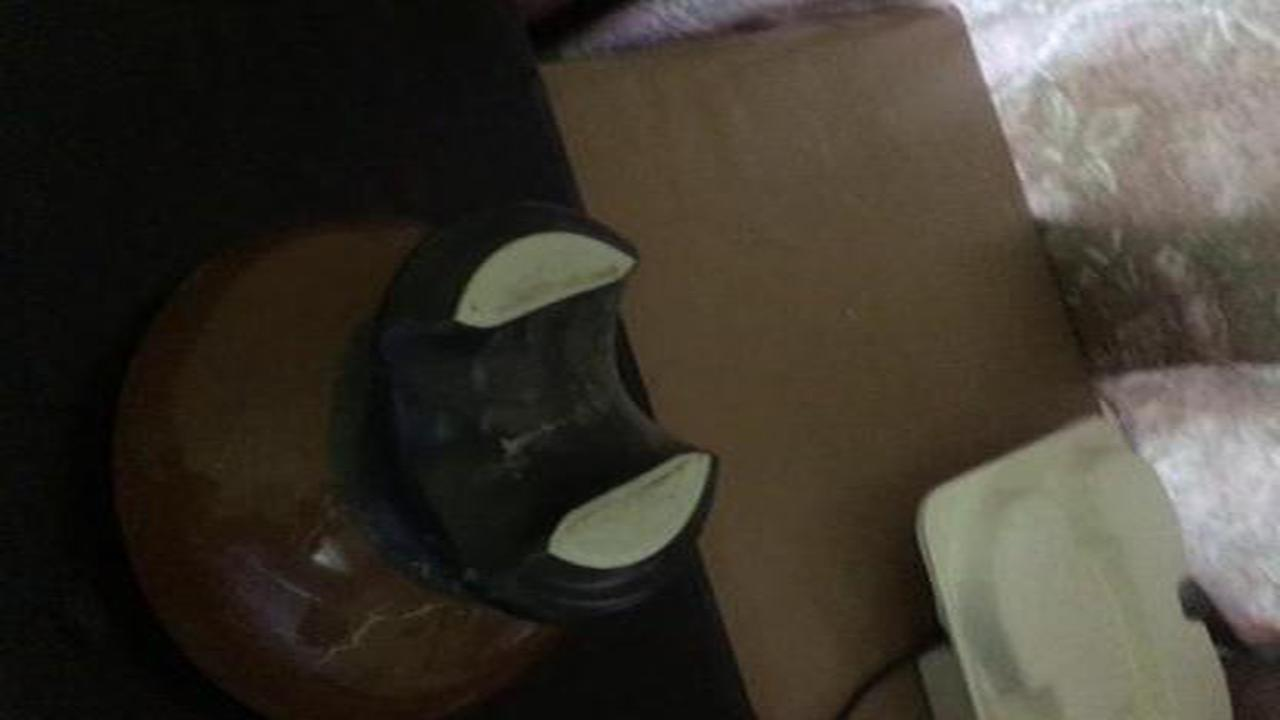insulator_pin: (92, 184, 739, 714)
